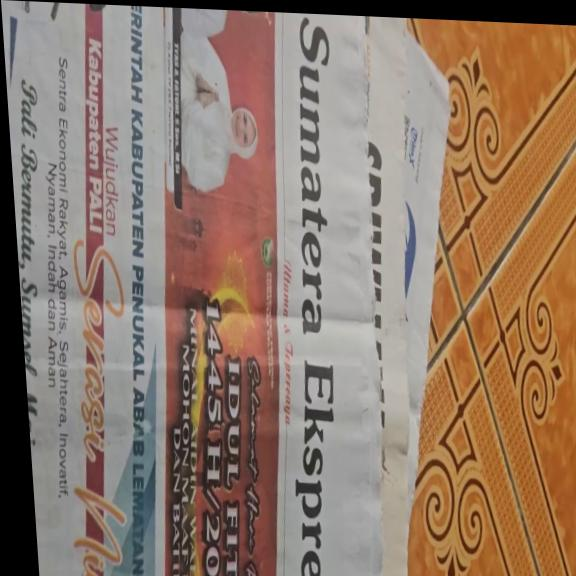Kertas: (8, 3, 411, 576)
